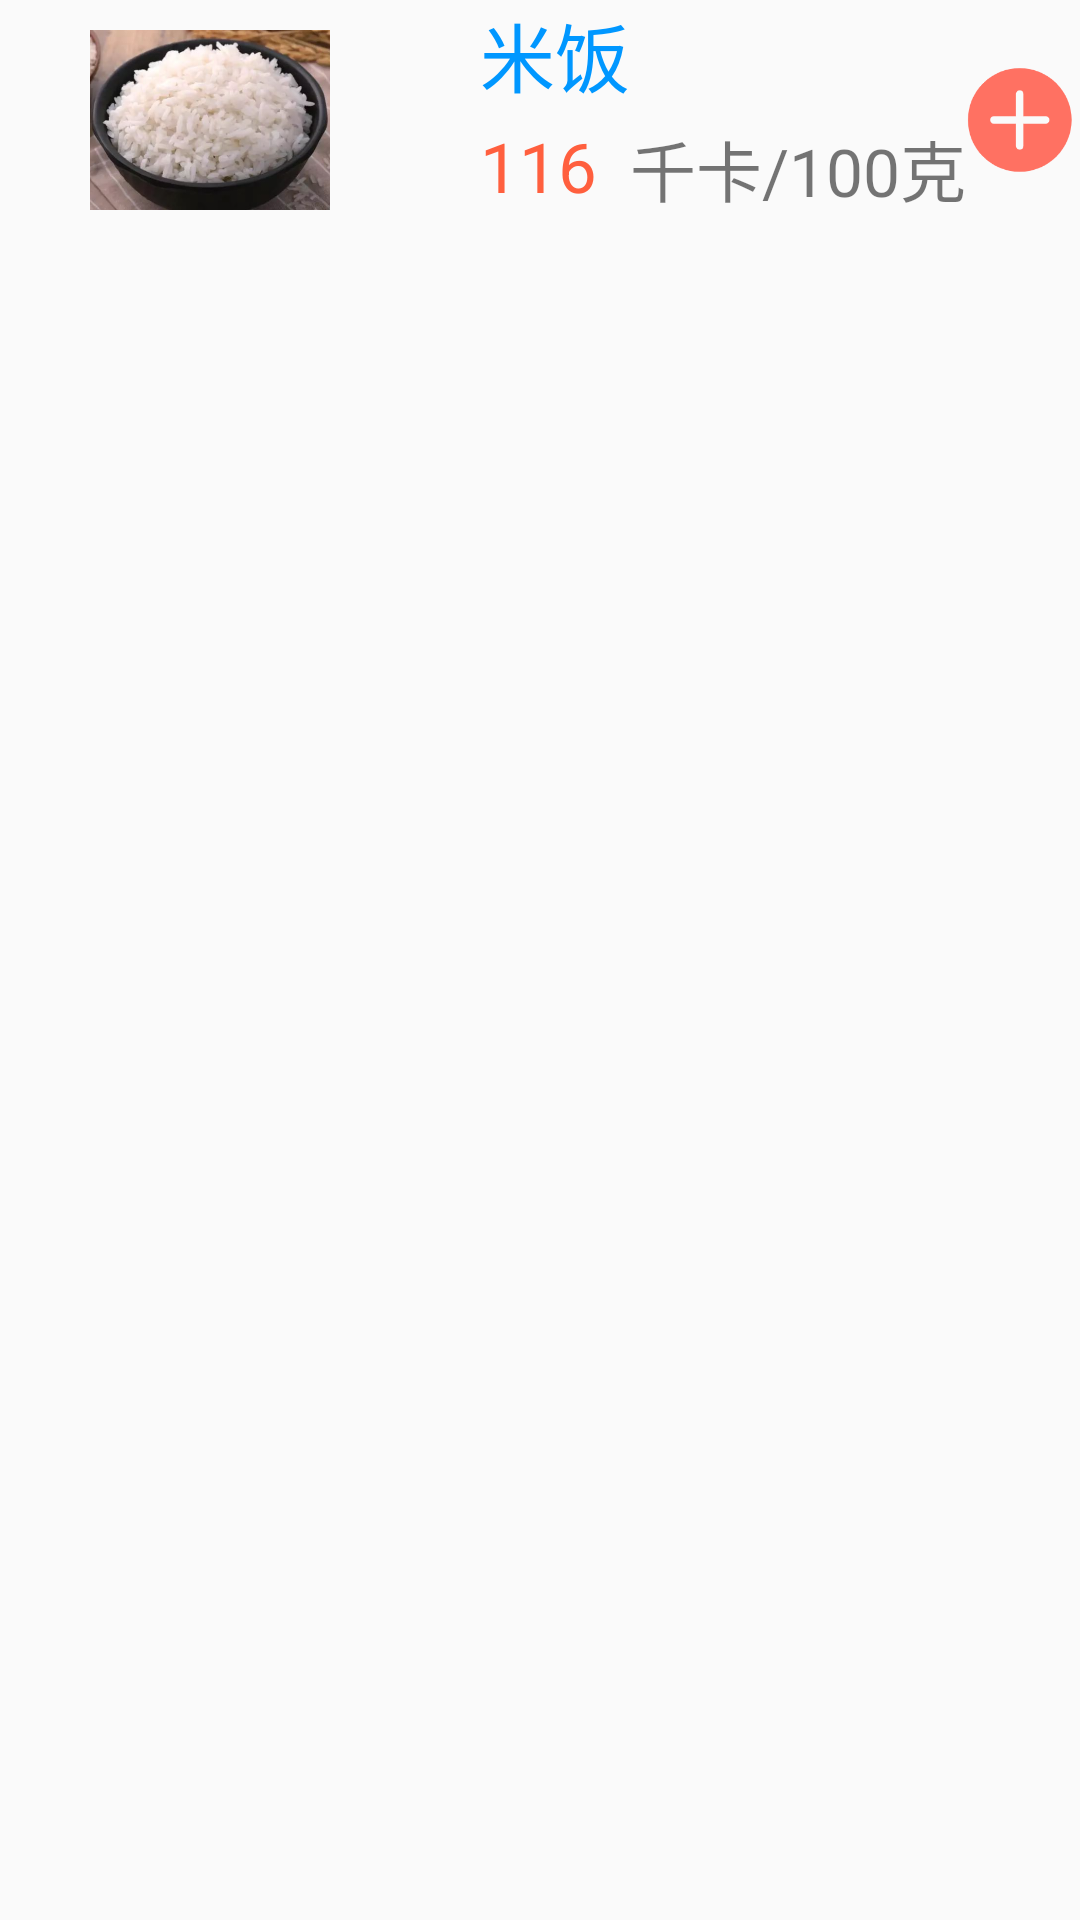

Locate icon controls on the screen. Image size 1080w x 1920h, boxes as (x1, y1, x2, y2).
food: (90, 30, 330, 210)
showfood add: (968, 68, 1072, 172)
